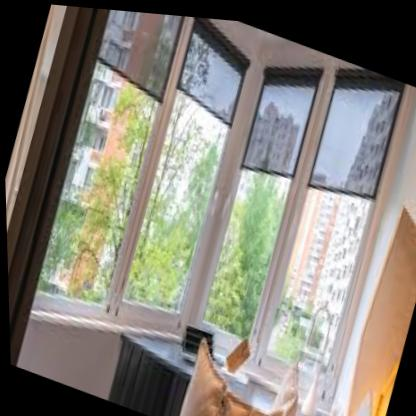Window: (256, 48, 412, 379), (31, 2, 194, 310), (116, 8, 260, 320), (191, 64, 319, 343)
